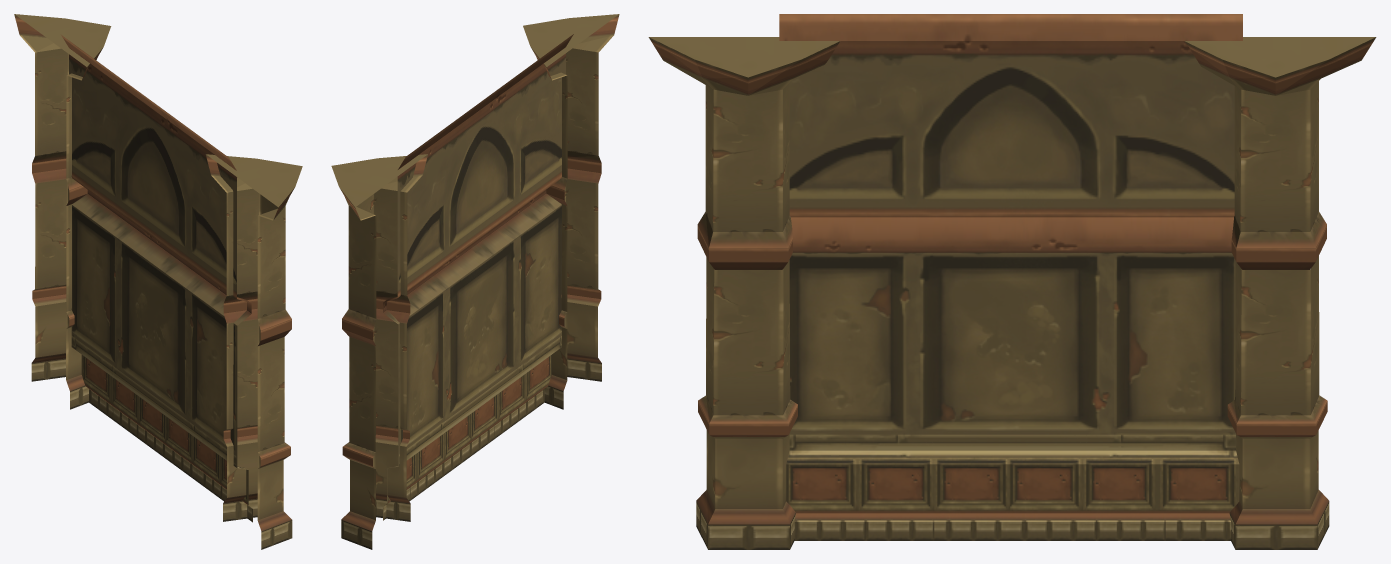
File: wall big.FBX
3 renders of one model, left to right at view 1: azimuth 30°, elevation 25°; view 2: azimuth 150°, elevation 25°; view 3: azimuth 270°, elevation 25°, orthographic. The views are drawn at different scales.
Parts seen in each view (by area): view 1: wall big; view 2: wall big; view 3: wall big.
Boxes of the visible parts, left/top/right/bottom form: wall big: left=14, top=14, right=302, bottom=549; wall big: left=331, top=14, right=619, bottom=549; wall big: left=648, top=14, right=1376, bottom=549.
Bounding box in the file's own units: 175 × 989 × 1278.
